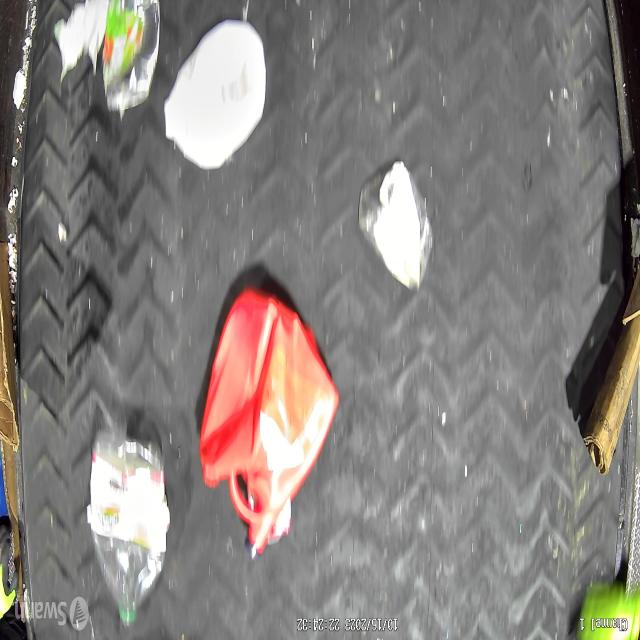can: (101, 0, 160, 112)
milk_jug: (161, 19, 266, 172)
non_white_jug: (200, 287, 338, 548)
plastic_bottle: (88, 434, 168, 630)
